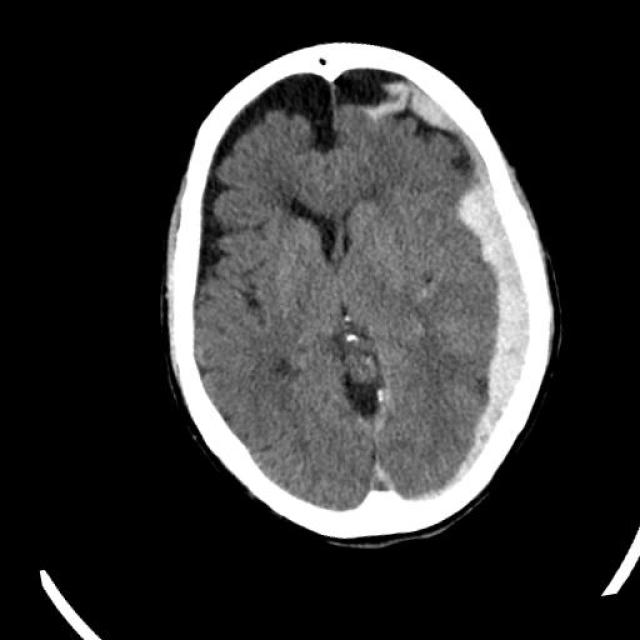Subdural: (358, 29, 613, 509)
